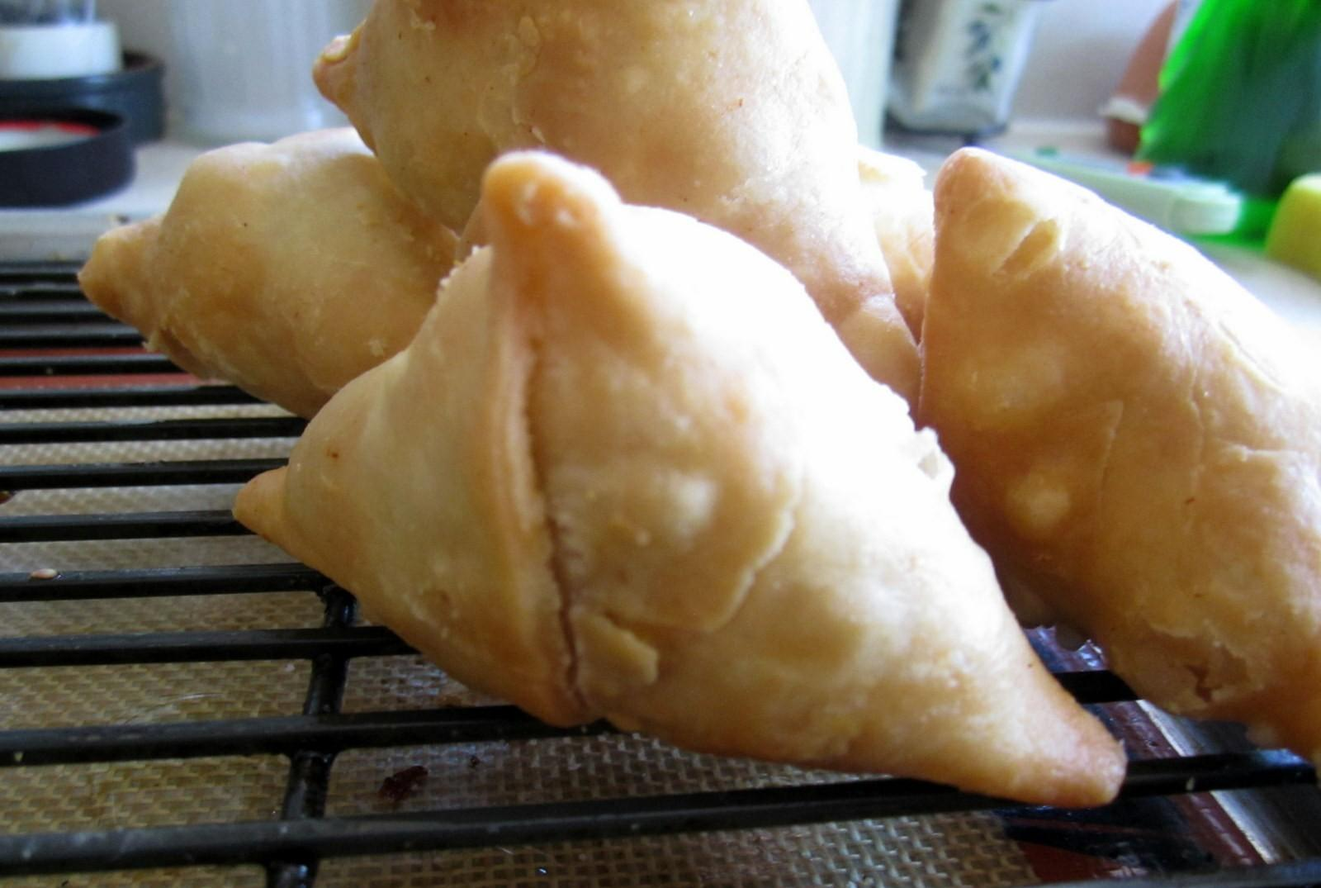Samosa: (230, 149, 1121, 813), (312, 0, 928, 404), (926, 152, 1321, 778), (79, 120, 476, 420)
